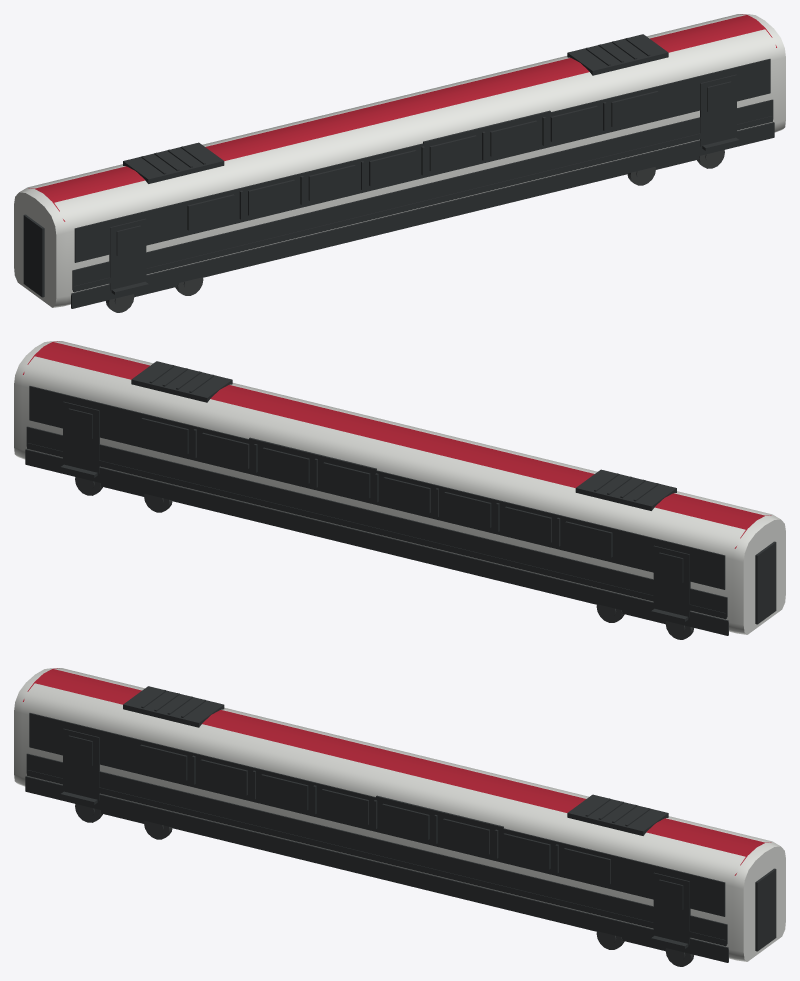
The model's file is railjet-nextgen-first-a.glb.
3 renders of one model, top to bottom at view 1: azimuth 30°, elevation 25°; view 2: azimuth 150°, elevation 25°; view 3: azimuth 330°, elevation 25°, orthographic.
Visible parts, largest first — view 1: first_a_lofted_body, first_a_black_window_ribbon_-1, first_a_red_roof, first_a_dark_skirt_-1, first_a_silver_flank_-1, first_a_red_sill_-1, first_a_hvac_1, first_a_hvac_0, first_a_wide_door_-1_1, first_a_wide_door_-1_0, gangway_1, first_a_window_-1_5 (+12 smaller); view 2: first_a_lofted_body, first_a_black_window_ribbon_1, first_a_red_roof, first_a_dark_skirt_1, first_a_silver_flank_1, first_a_red_sill_1, first_a_hvac_1, first_a_hvac_0, first_a_wide_door_1_1, first_a_wide_door_1_0, gangway_1, first_a_window_1_5 (+12 smaller); view 3: first_a_lofted_body, first_a_black_window_ribbon_-1, first_a_red_roof, first_a_dark_skirt_-1, first_a_silver_flank_-1, first_a_red_sill_-1, first_a_hvac_0, first_a_hvac_1, first_a_wide_door_-1_0, first_a_wide_door_-1_1, gangway_0, first_a_window_-1_2 (+12 smaller).
Part boxes in pixels (x1,y1,x2,y2): first_a_lofted_body: (14,14,785,307); first_a_black_window_ribbon_-1: (74,59,770,262); first_a_red_roof: (28,14,776,221); first_a_dark_skirt_-1: (71,122,774,308); first_a_silver_flank_-1: (72,99,773,290); first_a_red_sill_-1: (73,116,772,292); first_a_hvac_1: (567,34,668,75); first_a_hvac_0: (123,142,224,183); first_a_wide_door_-1_1: (700,74,736,146); first_a_wide_door_-1_0: (109,218,146,290); gangway_1: (23,214,44,297); first_a_window_-1_5: (490,120,537,156); first_a_lofted_body: (14,341,785,634); first_a_black_window_ribbon_1: (29,386,725,589); first_a_red_roof: (23,341,771,548); first_a_dark_skirt_1: (25,449,728,635); first_a_silver_flank_1: (26,426,727,617); first_a_red_sill_1: (27,443,726,619); first_a_hvac_1: (131,361,232,402); first_a_hvac_0: (575,469,676,510); first_a_wide_door_1_1: (63,401,99,473); first_a_wide_door_1_0: (653,545,690,617); gangway_1: (755,541,776,624); first_a_window_1_5: (262,447,309,483); first_a_lofted_body: (14,668,785,961); first_a_black_window_ribbon_-1: (29,713,725,916); first_a_red_roof: (23,668,771,875); first_a_dark_skirt_-1: (25,776,728,962); first_a_silver_flank_-1: (26,753,727,944); first_a_red_sill_-1: (27,770,726,946); first_a_hvac_0: (123,686,224,727); first_a_hvac_1: (567,794,668,835); first_a_wide_door_-1_0: (63,728,99,800); first_a_wide_door_-1_1: (653,872,690,944); gangway_0: (755,868,776,951); first_a_window_-1_2: (261,774,308,810).
Size of the model in its own units: 26.6 by 4.29 by 3.42.
